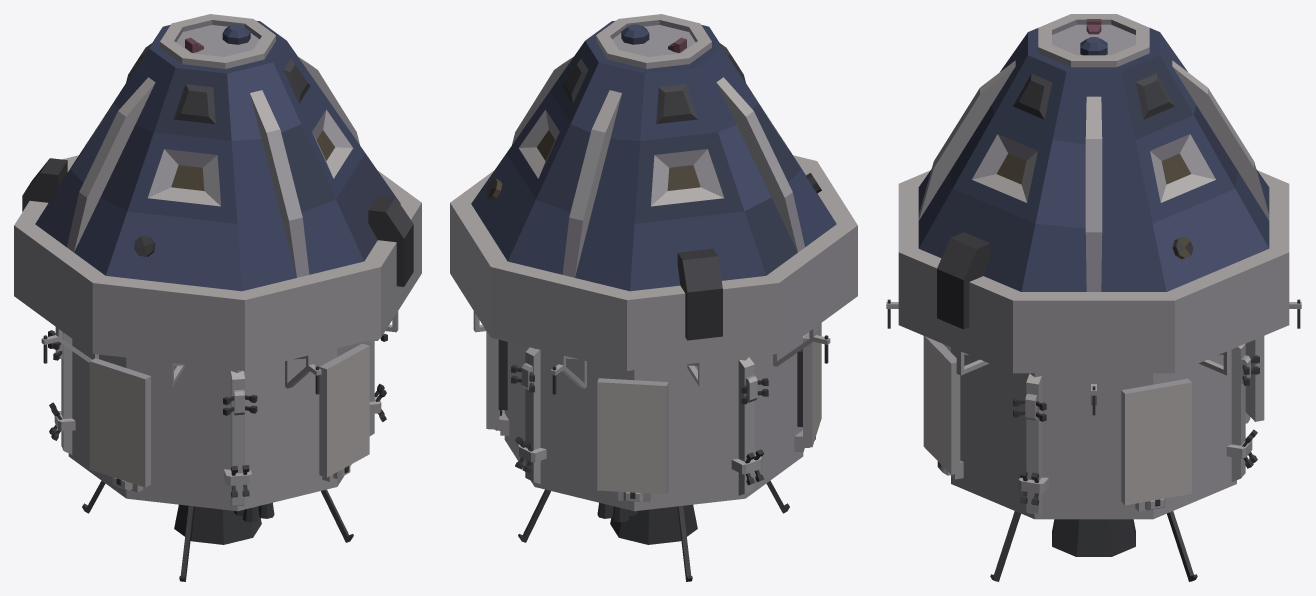
The model's file is crew_module.glb.
The picture shows the model from 3 angles, left to right: view 1: azimuth 30°, elevation 25°; view 2: azimuth 150°, elevation 25°; view 3: azimuth 270°, elevation 25°; orthographic projection. The views are drawn at different scales.
Visible parts, largest first — view 1: Crew Module_1; view 2: Crew Module_1; view 3: Crew Module_1.
Boxes of the visible parts, bbox=[...] form: Crew Module_1: bbox=[14, 14, 421, 581]; Crew Module_1: bbox=[450, 14, 857, 581]; Crew Module_1: bbox=[886, 14, 1301, 581].
Size of the model in its own units: 2.86 by 3.87 by 2.86.
